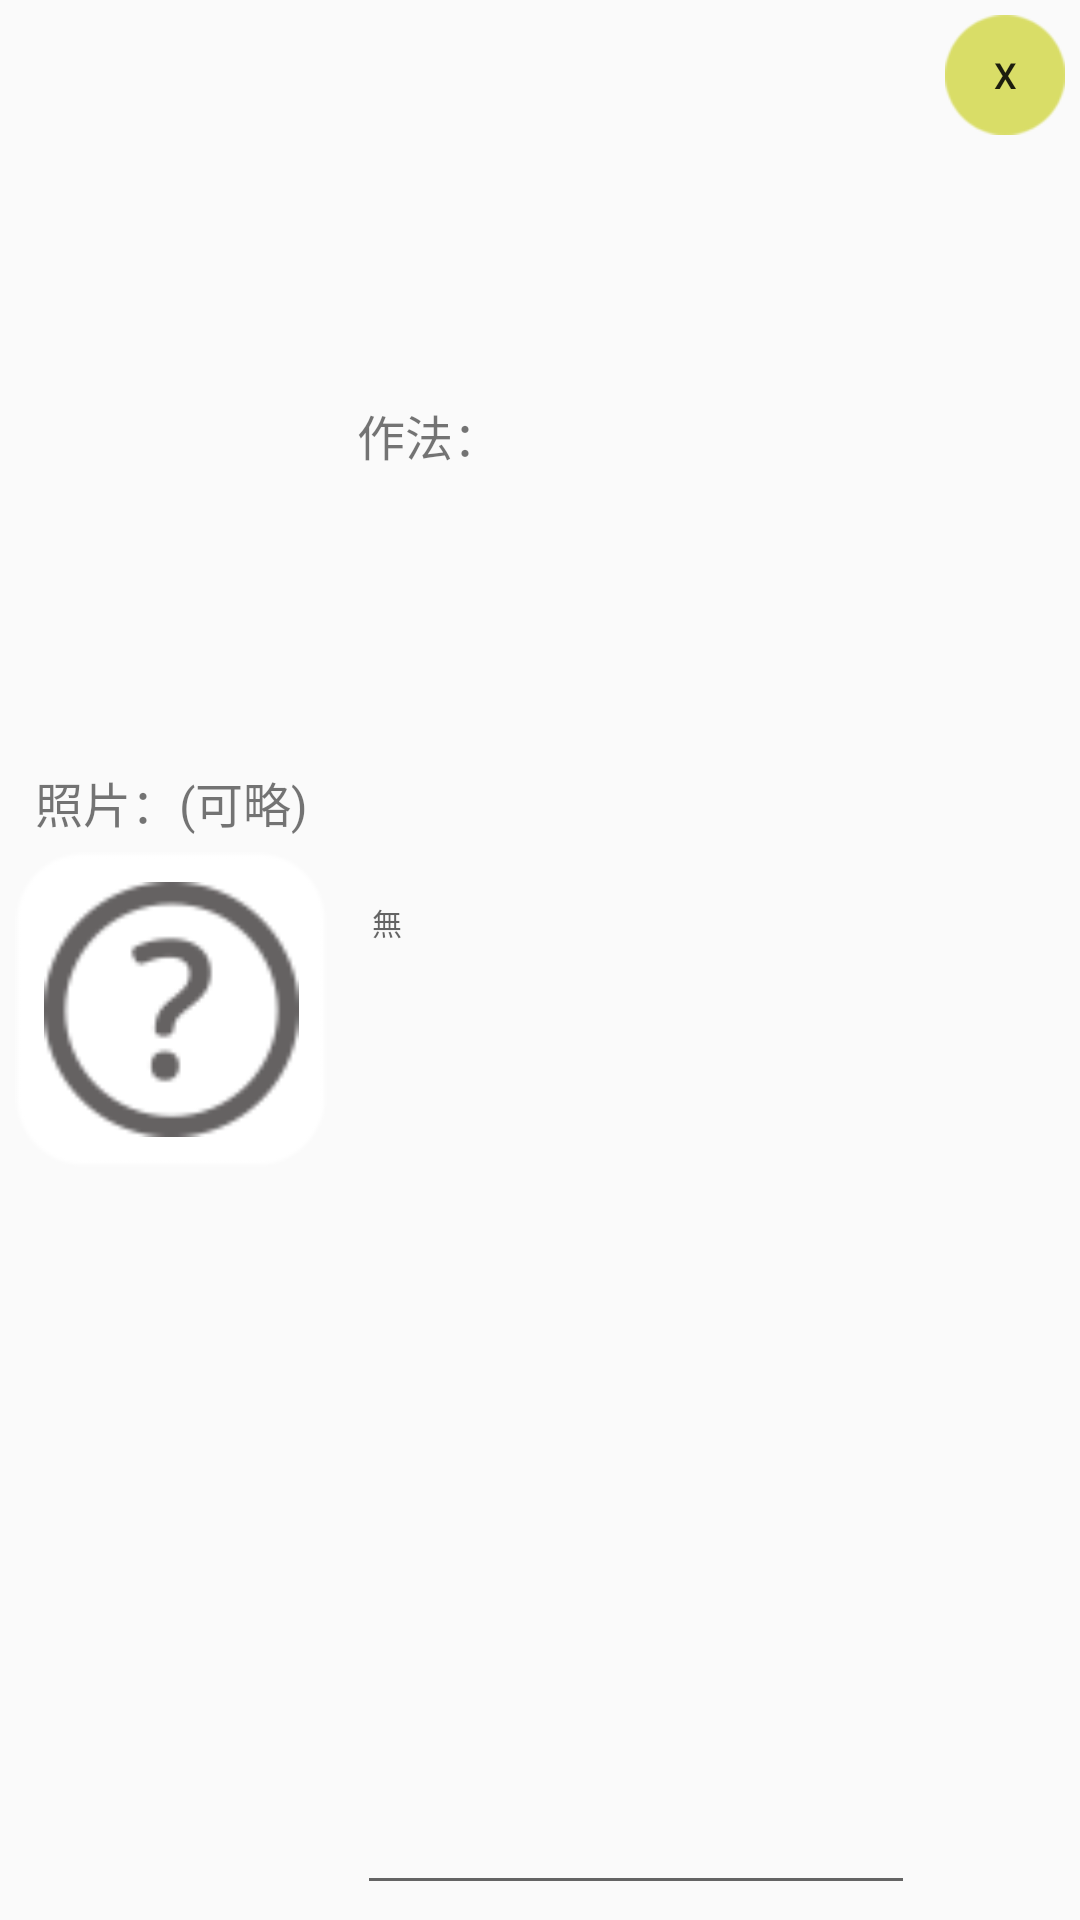

Icon bounding boxes for this 1080*1920 phone screenshot, format (x1, y1, x2, y2):
specie unknown: (44, 882, 299, 1137)
